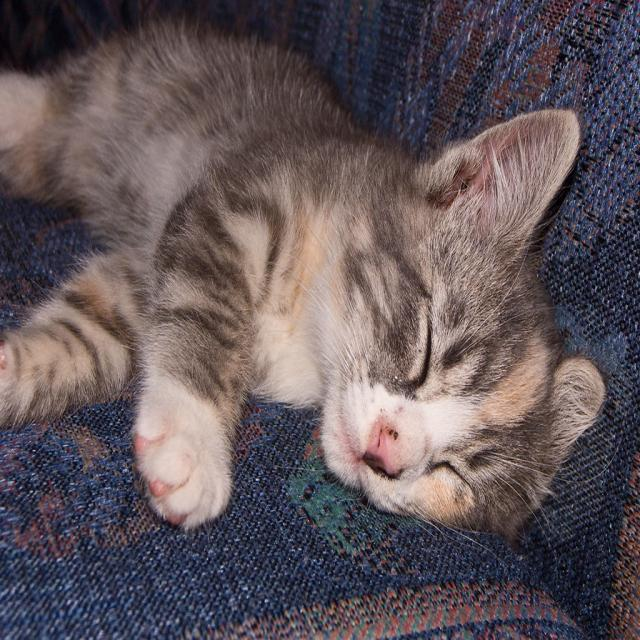Cat: (0, 14, 607, 551)
